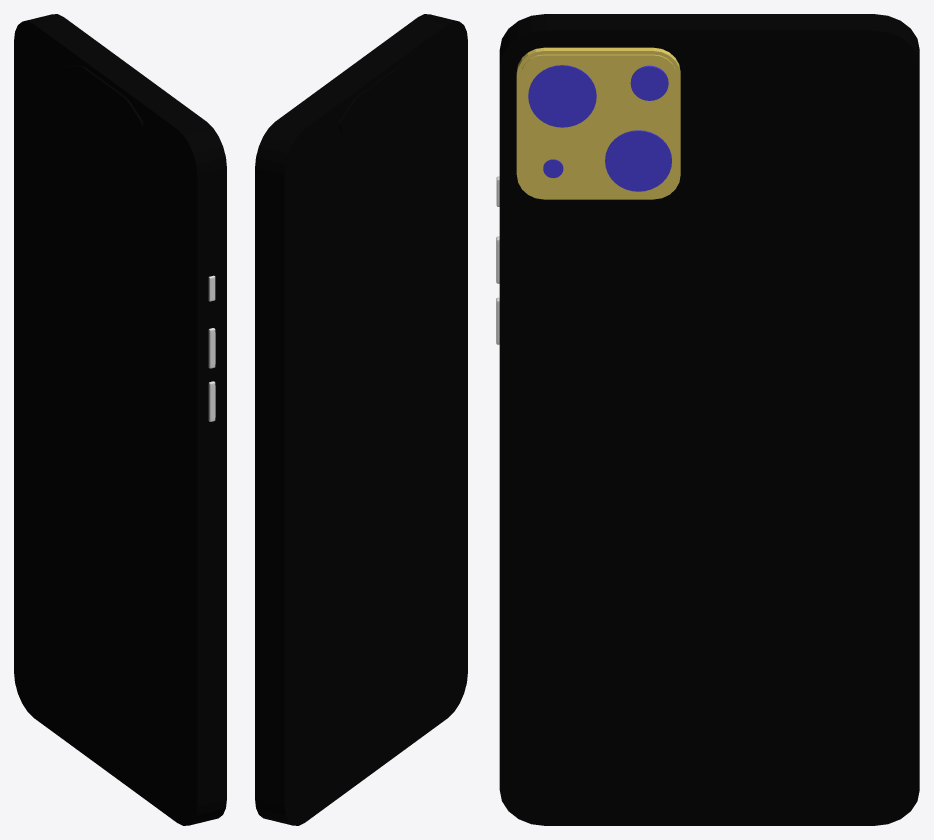
The model's file is bagian 7_Scene_Scene_Collection.fbx.
3 renders of one model, left to right at view 1: azimuth 30°, elevation 25°; view 2: azimuth 150°, elevation 25°; view 3: azimuth 270°, elevation 25°, orthographic. The views are drawn at different scales.
Parts seen in each view (by area): view 1: Cube, Cube.005; view 2: Cube, Cube.005; view 3: Cube, Cube.004, Cylinder, Cylinder.001, Cylinder.002.
Boxes of the visible parts, x1=… form: Cube: x1=14, y1=14, x2=226, y2=825; Cube.005: x1=65, y1=66, x2=143, y2=132; Cube: x1=255, y1=14, x2=467, y2=825; Cube.005: x1=338, y1=65, x2=416, y2=133; Cube: x1=499, y1=14, x2=919, y2=825; Cube.004: x1=516, y1=47, x2=680, y2=199; Cylinder: x1=528, y1=65, x2=596, y2=127; Cylinder.001: x1=605, y1=130, x2=671, y2=191; Cylinder.002: x1=630, y1=65, x2=668, y2=100.
Size of the model in its own units: 30.33 by 486 by 234.
